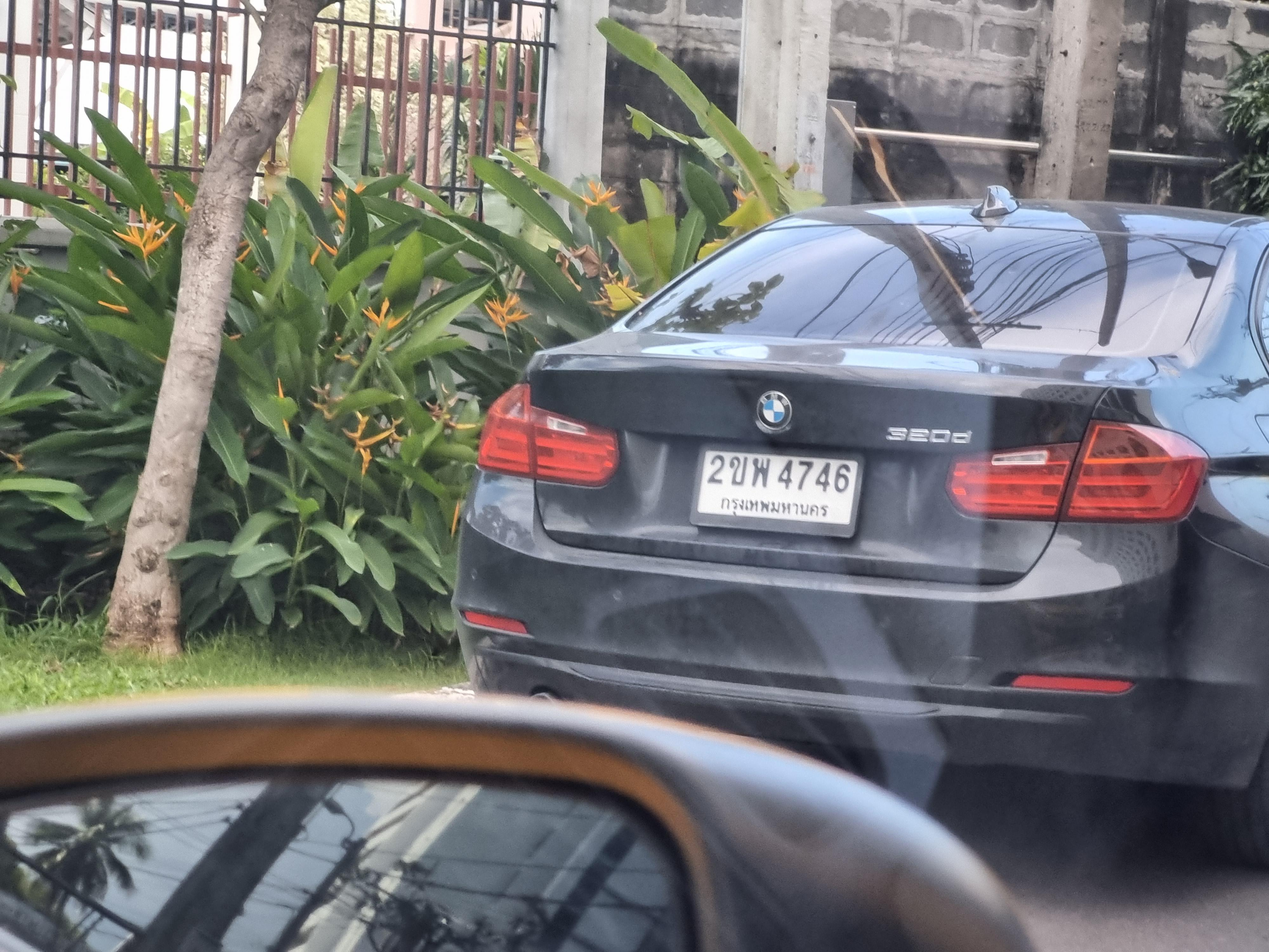license-plate: (699, 430, 866, 541)
